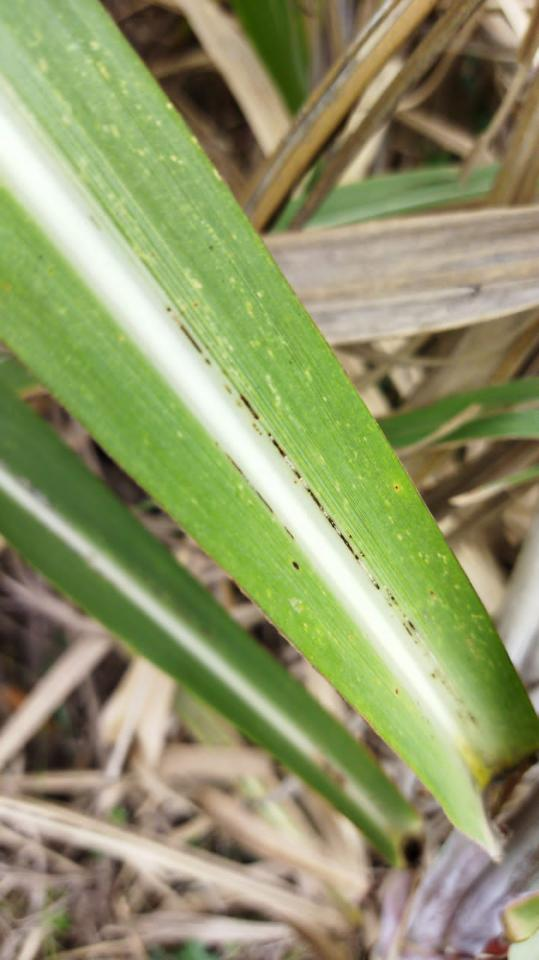Rust: (162, 292, 485, 734), (210, 436, 298, 544), (288, 556, 304, 573), (428, 589, 438, 600), (393, 685, 401, 697), (394, 483, 402, 492)
